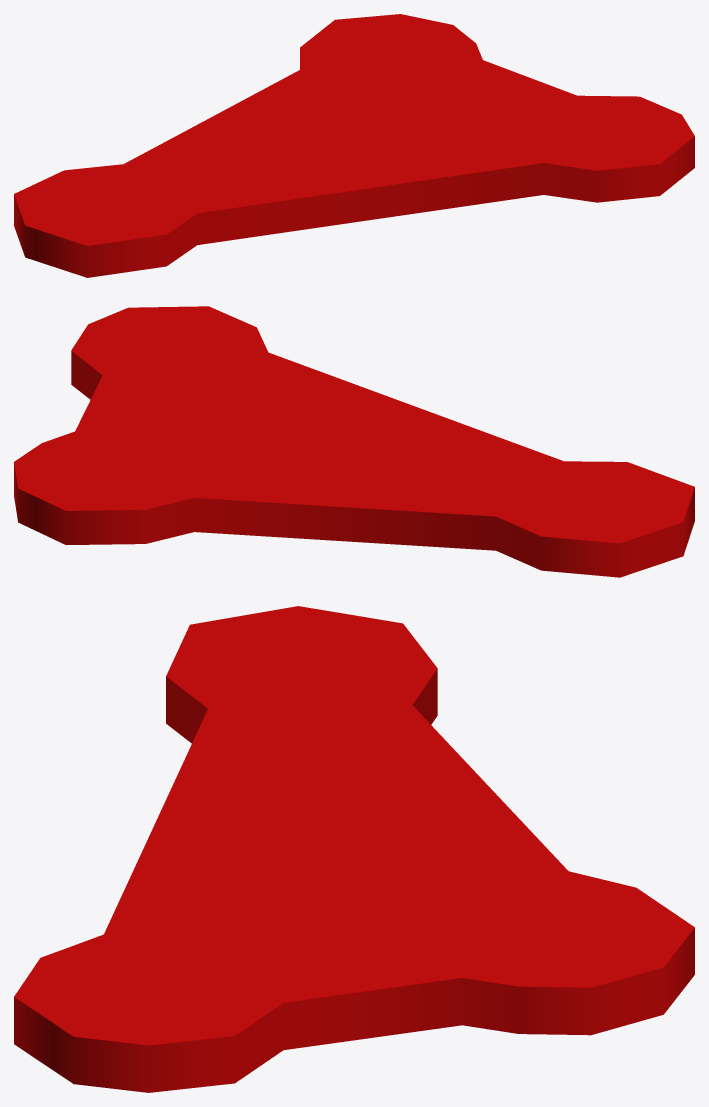
Rendered from triangle_collision.dae.
The picture shows the model from 3 angles, top to bottom: view 1: azimuth 30°, elevation 25°; view 2: azimuth 150°, elevation 25°; view 3: azimuth 270°, elevation 25°; orthographic projection. The views are drawn at different scales.
Visible parts, largest first — view 1: triangle_collision; view 2: triangle_collision; view 3: triangle_collision.
Boxes of the visible parts, left/top/right/bottom form: triangle_collision: left=14, top=14, right=694, bottom=277; triangle_collision: left=14, top=306, right=694, bottom=577; triangle_collision: left=14, top=606, right=694, bottom=1092.
Size of the model in its own units: 0.061 by 0.00307 by 0.0399.
